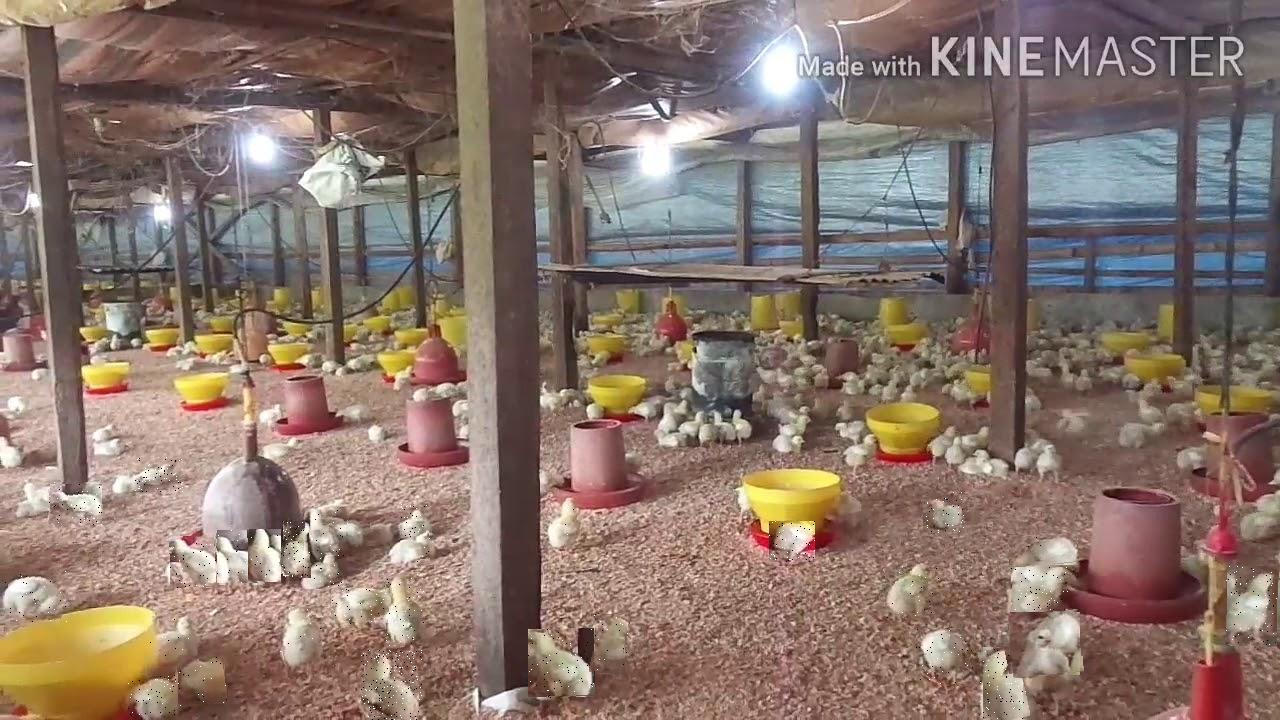chicken: (1010, 611, 1083, 677), (529, 629, 595, 698), (361, 650, 422, 720), (1226, 565, 1278, 647), (980, 645, 1026, 720), (886, 559, 941, 621), (6, 571, 68, 624), (917, 629, 974, 686), (387, 573, 425, 647), (146, 613, 198, 667), (278, 606, 322, 669), (170, 536, 217, 589), (1012, 568, 1069, 611), (177, 657, 227, 706), (50, 482, 105, 525), (1009, 534, 1079, 567), (217, 531, 259, 585), (332, 589, 391, 627), (593, 615, 628, 677), (305, 508, 349, 555), (128, 675, 176, 718), (769, 521, 815, 562), (281, 520, 313, 577), (922, 491, 964, 533), (249, 530, 281, 584), (135, 457, 184, 492), (550, 494, 581, 549), (304, 551, 346, 588), (391, 529, 432, 566), (401, 504, 427, 536)
